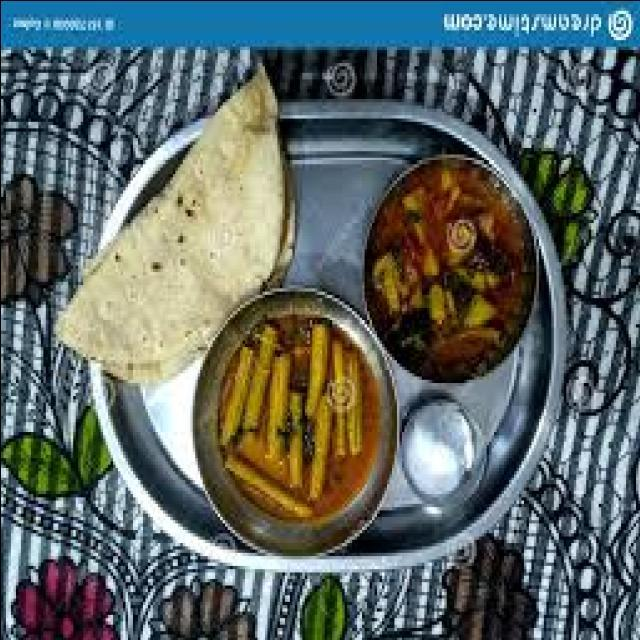dal: (51, 151, 266, 388)
